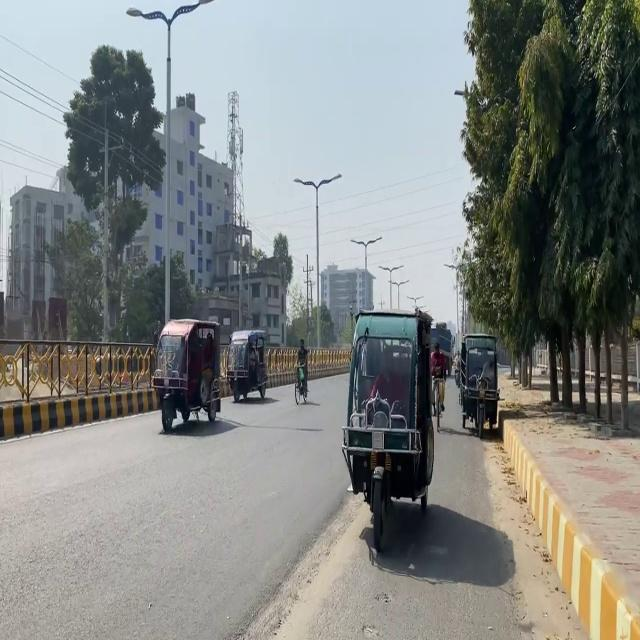Bench: (150, 317, 221, 432)
Construction-barrier: (500, 413, 639, 639), (0, 386, 160, 441)
Fallen-tree: (430, 365, 446, 432), (294, 362, 309, 404)
Garbage-bin: (429, 342, 447, 415), (295, 338, 309, 394)
Pothole: (455, 371, 640, 640)
Traffic-cone: (340, 306, 438, 552), (430, 322, 452, 375)
